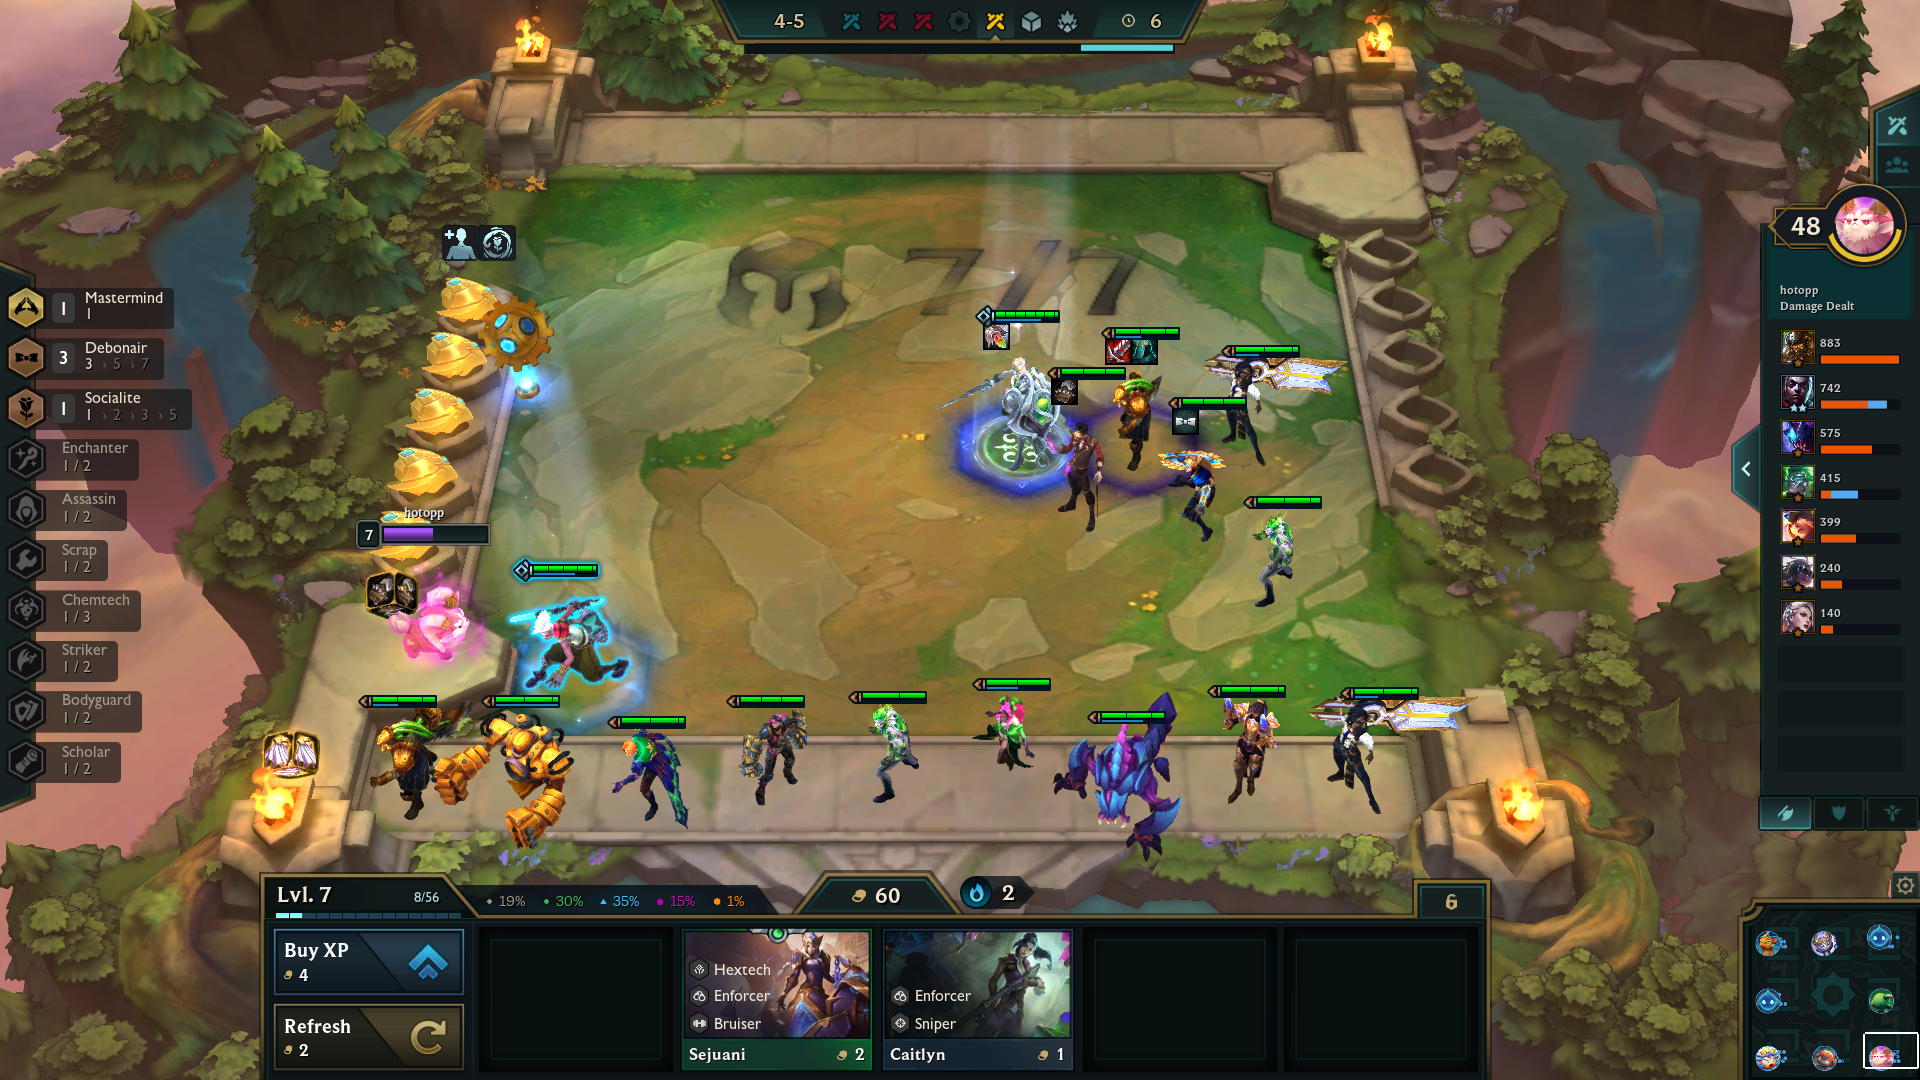blit: (455, 709, 578, 836)
bran: (1245, 501, 1304, 617), (869, 707, 918, 800)
ekko: (510, 599, 628, 694)
leon: (982, 349, 1054, 451)
luci: (1213, 691, 1280, 812)
reks: (1055, 694, 1197, 855)
senn: (1312, 683, 1451, 815), (1205, 343, 1344, 454)
silc: (1050, 422, 1106, 527)
sivi: (1155, 438, 1232, 543)
synd: (976, 694, 1039, 781)
talo: (593, 720, 699, 825)
tryn: (363, 707, 447, 807), (1102, 365, 1164, 475)
vi: (728, 702, 818, 807)
